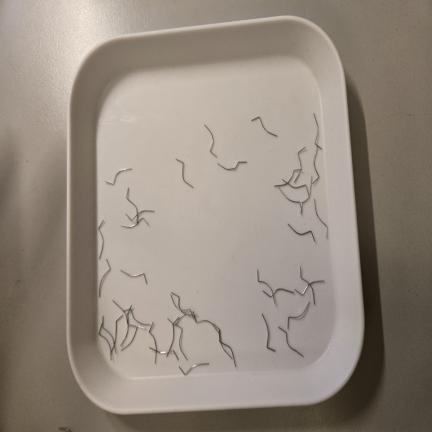probe: (278, 327, 304, 357), (314, 198, 328, 238), (251, 116, 277, 137), (262, 314, 276, 352), (287, 224, 315, 242), (176, 159, 193, 188), (105, 168, 132, 185), (99, 259, 111, 296), (205, 124, 217, 157), (179, 363, 209, 376), (120, 270, 147, 284), (217, 161, 247, 170), (98, 220, 104, 259)
